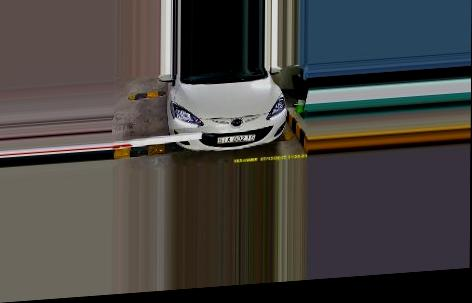License_Plate: (217, 133, 255, 145)
